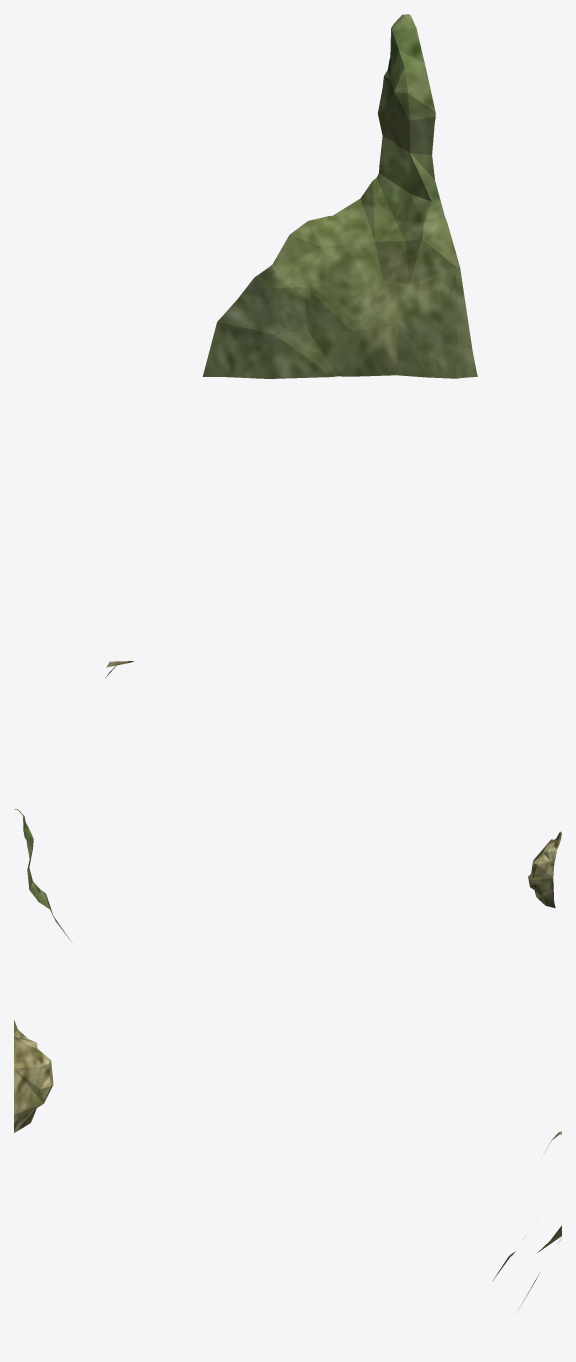
3 renders of one model, top to bottom at view 1: azimuth 30°, elevation 25°; view 2: azimuth 150°, elevation 25°; view 3: azimuth 270°, elevation 25°, orthographic. The views are drawn at different scales.
Size of the model in its own units: 5.9 by 2.54 by 5.9.
1 material, 1 textured.
